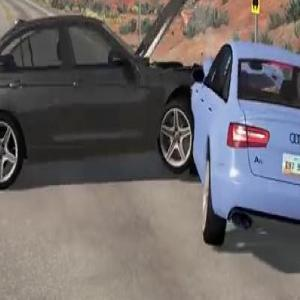significant: (0, 0, 300, 264)
